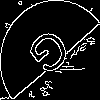G: (25, 25, 79, 86)
